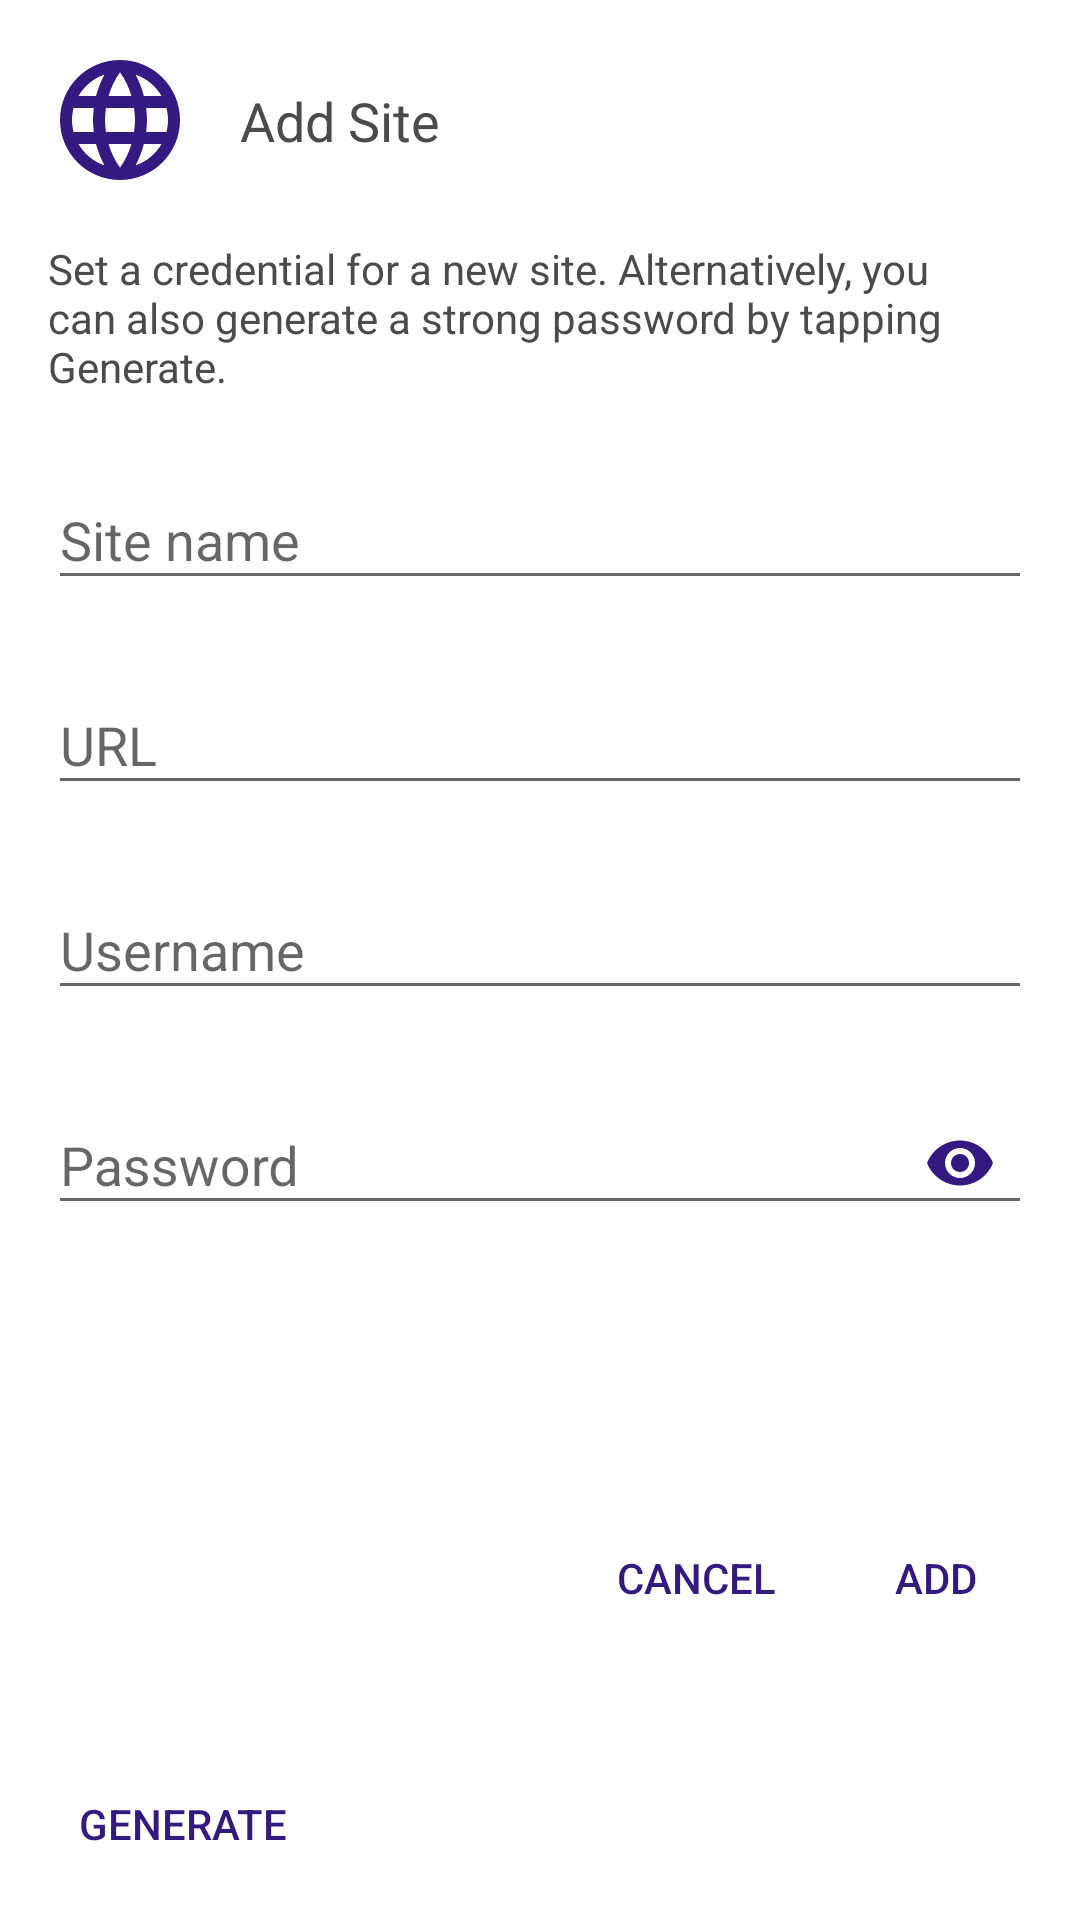

Icons on this 1080w x 1920h Android screen, each with the point to tap as [x,y]:
web: [120,120]
